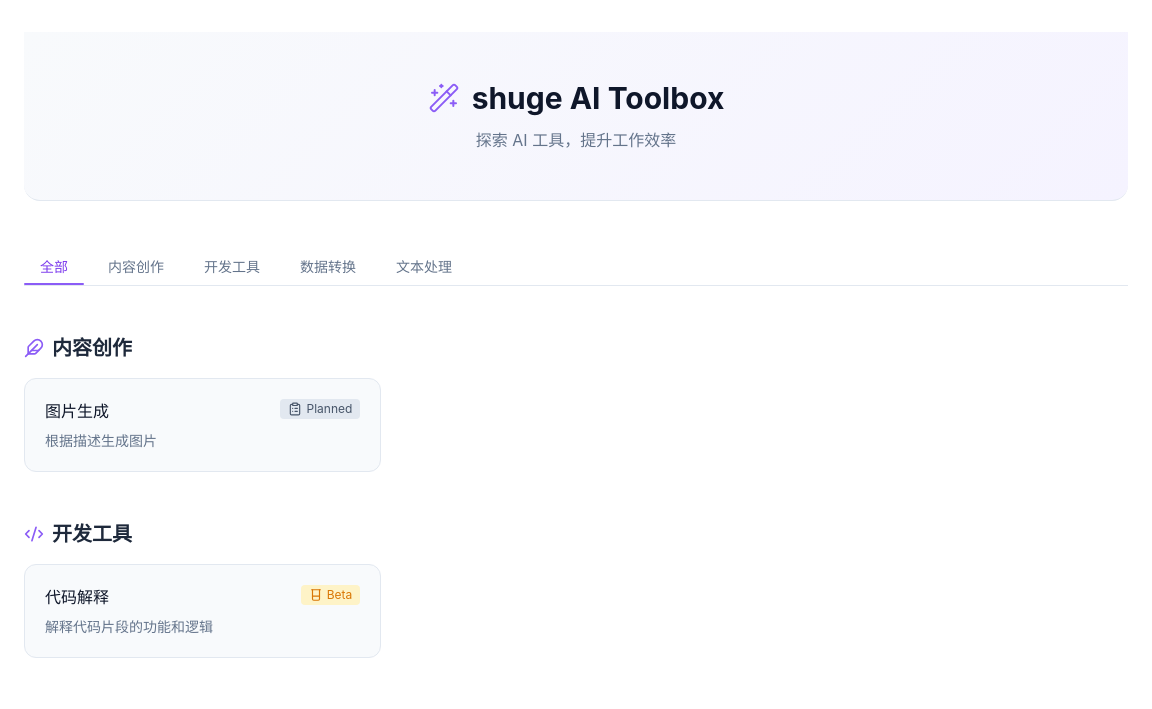
Test: Home Tab 导航 › 点击「全部」Tab 恢复显示全量工具
This screenshot has width=1152, height=709.
Click the button "文本处理".
click(424, 267)  # box [380, 249, 468, 285]
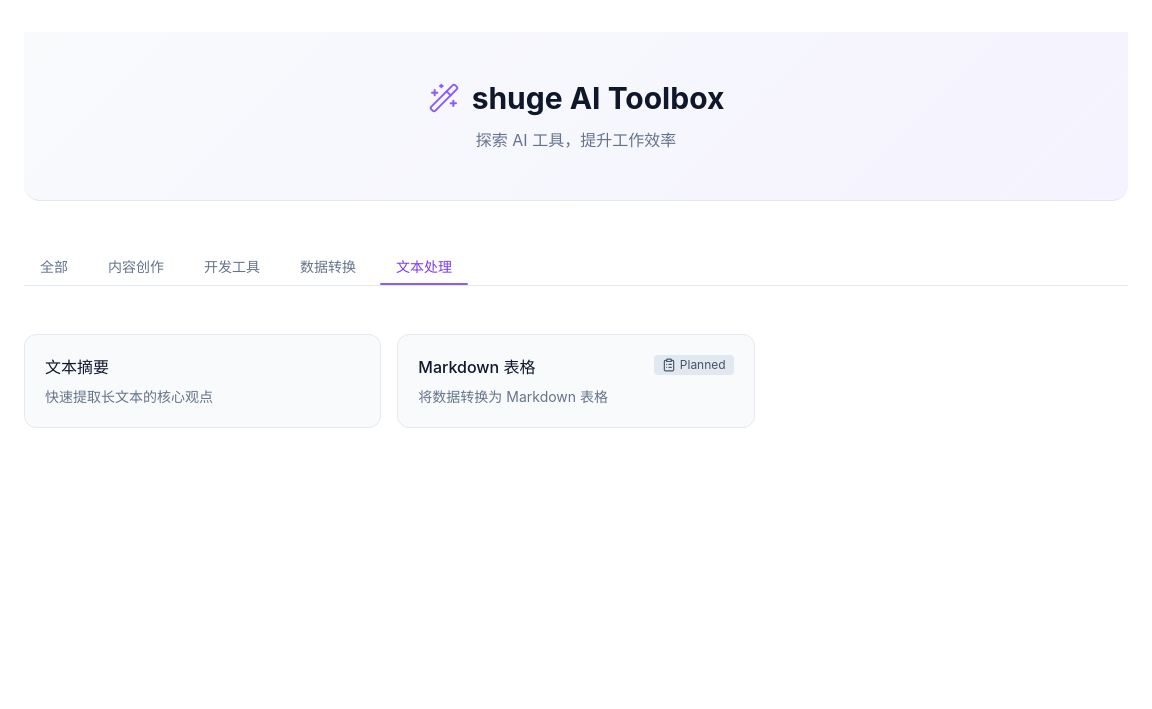
Click the button "全部".
click(54, 267)  # box [24, 249, 84, 285]
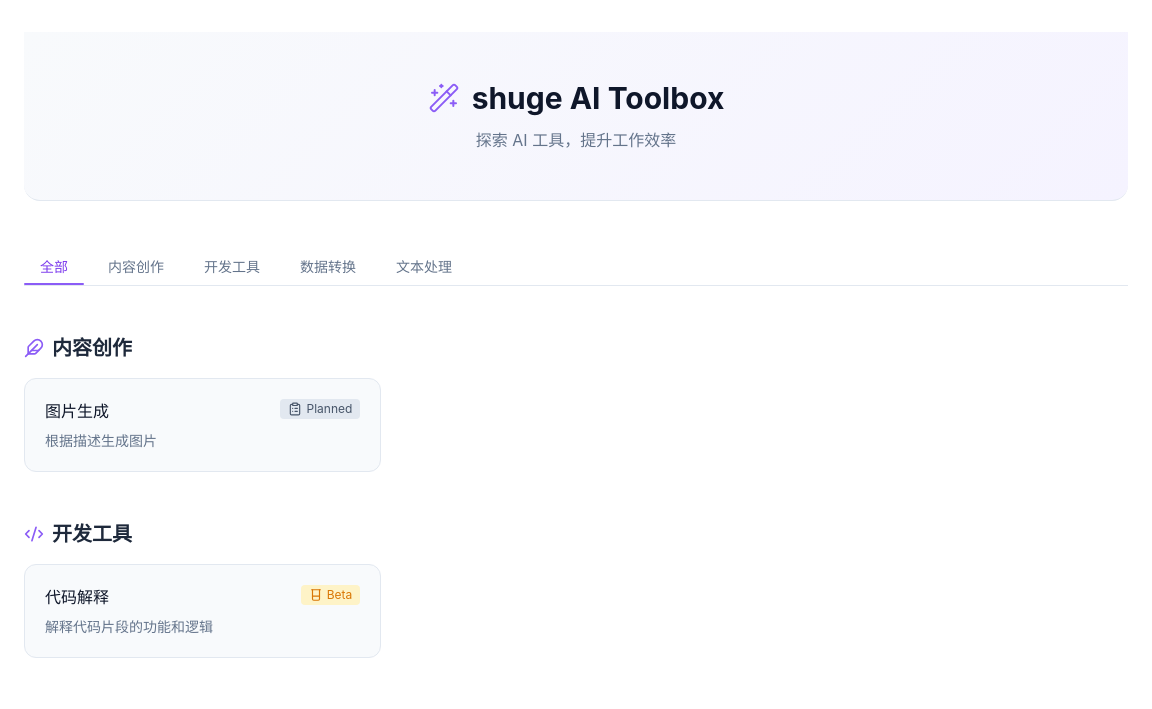
Expected: the number of links is 5
